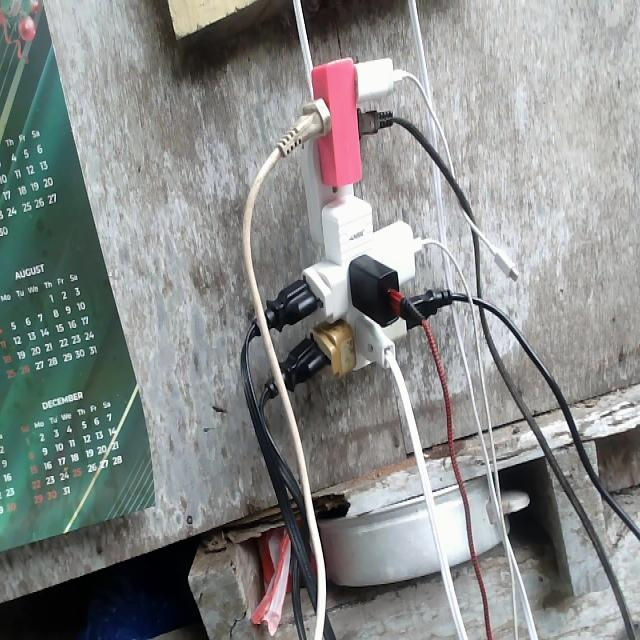-: (239, 53, 459, 408)
